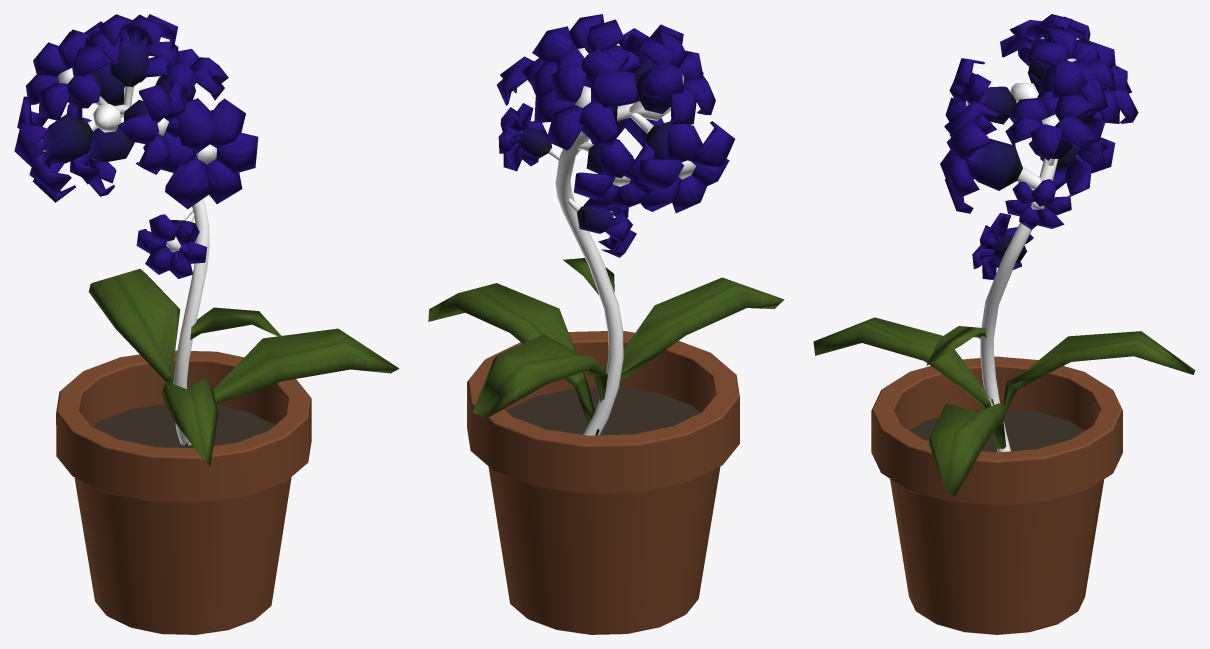
The model's file is plant1.lod1.glb.
The picture shows the model from 3 angles, left to right: view 1: azimuth 30°, elevation 25°; view 2: azimuth 150°, elevation 25°; view 3: azimuth 270°, elevation 25°; orthographic projection. The views are drawn at different scales.
Parts seen in each view (by area): view 1: Potted Plant - Bluebell.001; view 2: Potted Plant - Bluebell.001; view 3: Potted Plant - Bluebell.001.
Boxes of the visible parts, x1=… form: Potted Plant - Bluebell.001: x1=14, y1=14, x2=399, y2=634; Potted Plant - Bluebell.001: x1=428, y1=14, x2=784, y2=634; Potted Plant - Bluebell.001: x1=813, y1=14, x2=1195, y2=634.
Size of the model in its own units: 0.1599 by 0.2635 by 0.1647.
6 materials, 2 textured.
